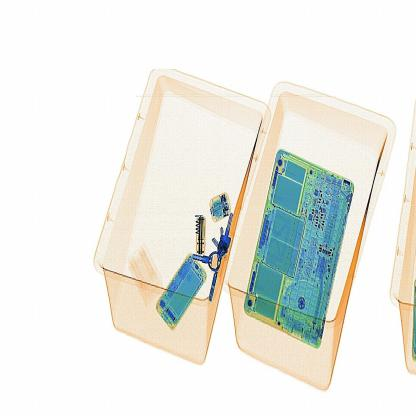scissors: (193, 213, 210, 261)
